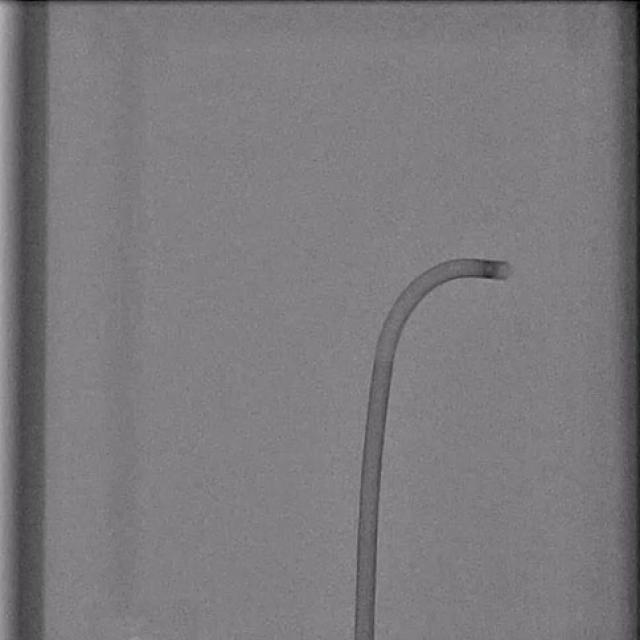bend: (372, 346, 393, 363)
entry: (356, 634, 374, 640)
marker: (481, 259, 496, 279)
tip: (499, 261, 510, 279)
